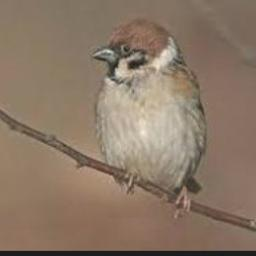Sparrow: (90, 17, 206, 217)
